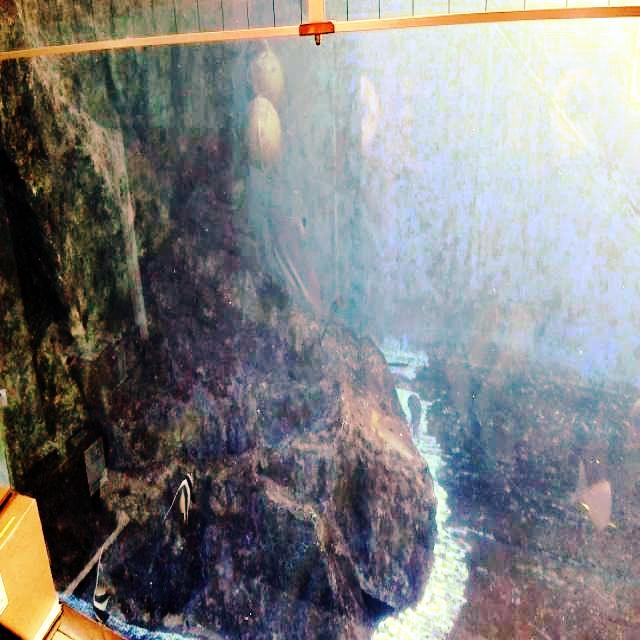Plectorhinchus lessonii: (399, 384, 432, 452)
angelfish: (162, 458, 204, 536), (89, 544, 124, 629)
gold snapper: (561, 438, 624, 552)
